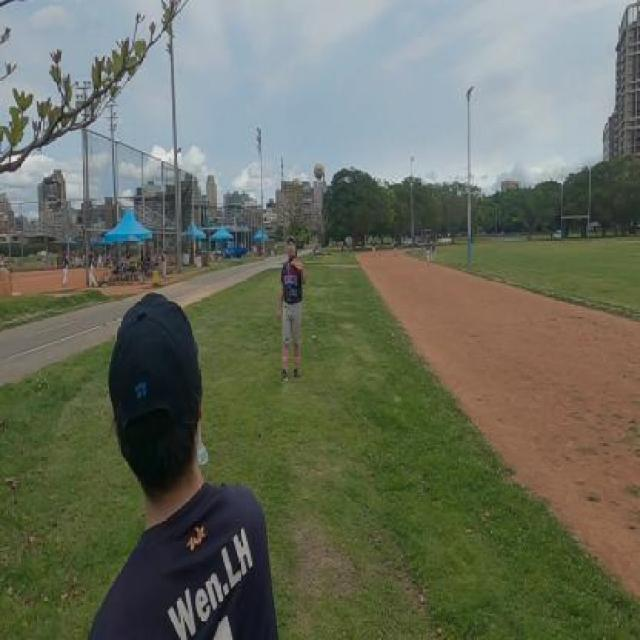baseball: (313, 162, 324, 180)
